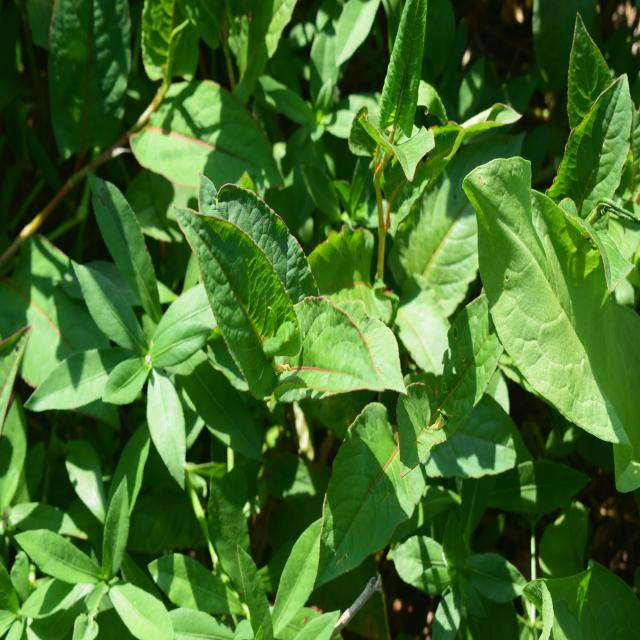Chinese_knotweed: (194, 178, 411, 427)
